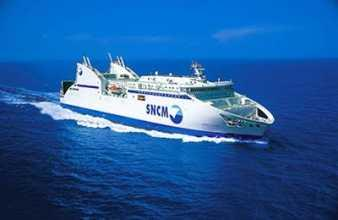otherboat: (59, 52, 277, 139)
